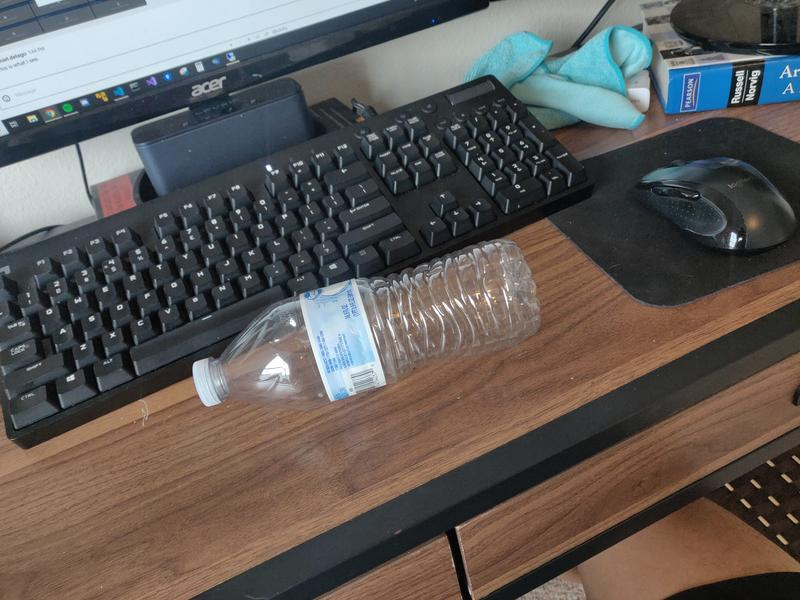bottle: (191, 238, 540, 408)
